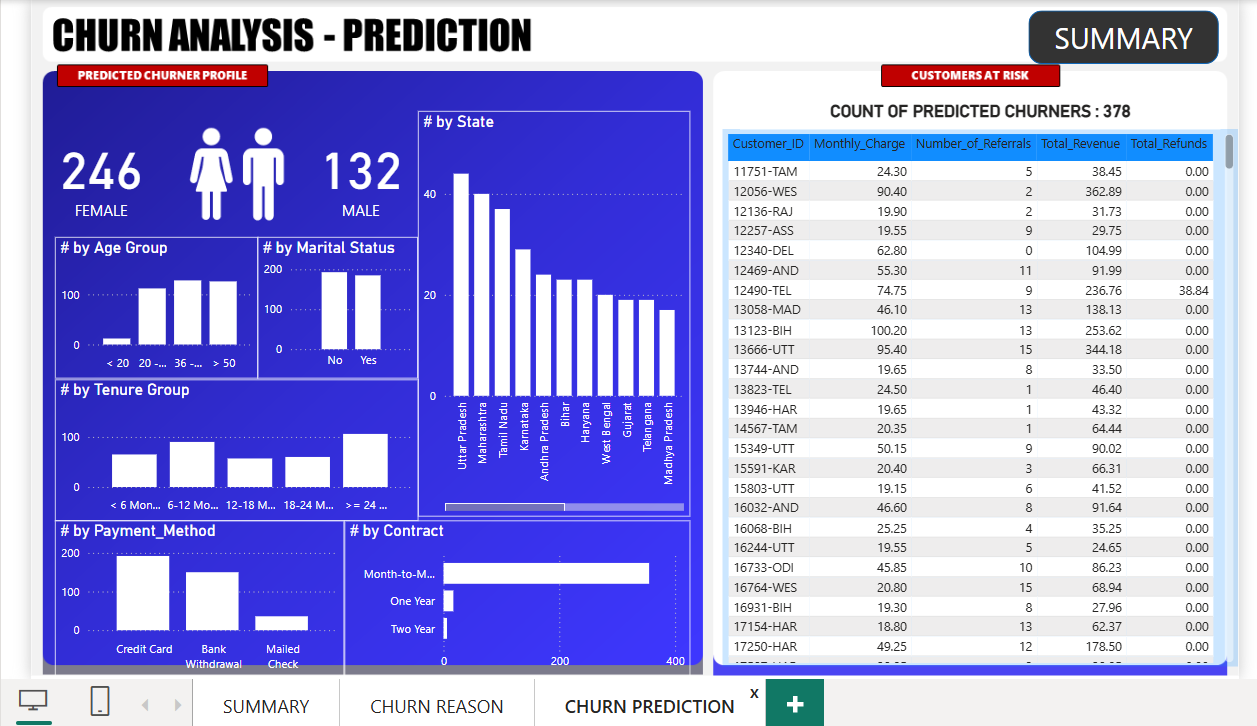

The page's visual inventory and layout, read from the dashboard file:
{"tool":"powerbi","page":{"name":"CHURN PREDICTION","canvas":[1280,720],"ordinal":2},"visuals":[{"type":"tableEx","fields":{"Values":["Prediction_data.Customer_ID","Prediction_data.Monthly_Charge","Prediction_data.Number_of_Referrals","Prediction_data.Total_Revenue","Prediction_data.Total_Refunds"]},"box":[733.3,136.7,546.7,570],"z":0},{"type":"card","fields":{"Values":["tbl_Measures.Title Predicted Churners"]},"box":[751.7,98.3,508.3,38.3],"z":1},{"type":"card","fields":{"Values":["tbl_Measures.Count Predicted Churner"]},"box":[0,118.3,148.3,133.3],"z":2},{"type":"card","fields":{"Values":["tbl_Measures.Count Predicted Churner"]},"box":[275,118.3,148.3,133.3],"z":3},{"type":"clusteredColumnChart","fields":{"Category":["Mapping_Agegrp.Age Group "],"Y":["CountNonNull(Prediction_data.Customer_ID)"]},"box":[25,251.7,215,150],"z":4},{"type":"clusteredColumnChart","fields":{"Y":["CountNonNull(Prediction_data.Customer_ID)"],"Category":["Prediction_data.Married"]},"box":[240,251.7,170,150],"z":5},{"type":"clusteredColumnChart","fields":{"Category":["Mapping_Tenuregrp.Tenure Group"],"Y":["CountNonNull(Prediction_data.Customer_ID)"]},"box":[25,401.7,385,150],"z":6},{"type":"clusteredBarChart","fields":{"Category":["Prediction_data.Contract"],"Y":["CountNonNull(Prediction_data.Customer_ID)"]},"box":[331.7,551.7,366.7,168.3],"z":7},{"type":"clusteredColumnChart","fields":{"Category":["Prediction_data.Payment_Method"],"Y":["CountNonNull(Prediction_data.Customer_ID)"]},"box":[25,551.7,306.7,168.3],"z":8},{"type":"clusteredColumnChart","fields":{"Category":["Prediction_data.State"],"Y":["CountNonNull(Prediction_data.Customer_ID)"]},"box":[410,118.3,288.3,430],"z":9},{"type":"image","box":[148.3,116.7,140,135],"z":10},{"type":"shape","box":[1058.3,11.7,201.7,56.7],"z":11}]}

Visuals, with their boxes on the page's 1280x720 design canvas (x1, y1, x2, y2). These are canvas units, not pixel positions in the 1257x726 screenshot, which may show the page scaled, cropped or inside an application window:
tableEx - Prediction_data.Customer_ID x Prediction_data.Monthly_Charge: x1=733, y1=137, x2=1280, y2=707
card - tbl_Measures.Title Predicted Churners: x1=752, y1=98, x2=1260, y2=137
card - tbl_Measures.Count Predicted Churner: x1=0, y1=118, x2=148, y2=252
card - tbl_Measures.Count Predicted Churner: x1=275, y1=118, x2=423, y2=252
clusteredColumnChart - Mapping_Agegrp.Age Group  x CountNonNull(Prediction_data.Customer_ID): x1=25, y1=252, x2=240, y2=402
clusteredColumnChart - CountNonNull(Prediction_data.Customer_ID) x Prediction_data.Married: x1=240, y1=252, x2=410, y2=402
clusteredColumnChart - Mapping_Tenuregrp.Tenure Group x CountNonNull(Prediction_data.Customer_ID): x1=25, y1=402, x2=410, y2=552
clusteredBarChart - Prediction_data.Contract x CountNonNull(Prediction_data.Customer_ID): x1=332, y1=552, x2=698, y2=720
clusteredColumnChart - Prediction_data.Payment_Method x CountNonNull(Prediction_data.Customer_ID): x1=25, y1=552, x2=332, y2=720
clusteredColumnChart - Prediction_data.State x CountNonNull(Prediction_data.Customer_ID): x1=410, y1=118, x2=698, y2=548
image: x1=148, y1=117, x2=288, y2=252
shape: x1=1058, y1=12, x2=1260, y2=68
